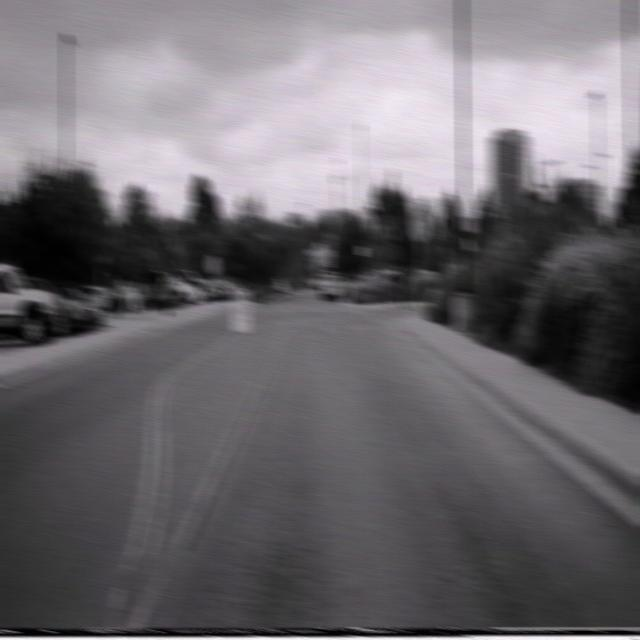stop: (410, 210, 430, 242)
